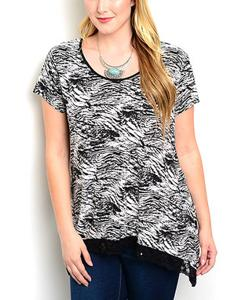C_jeans: (65, 208, 190, 300)
C_short blouse: (33, 39, 228, 287)
